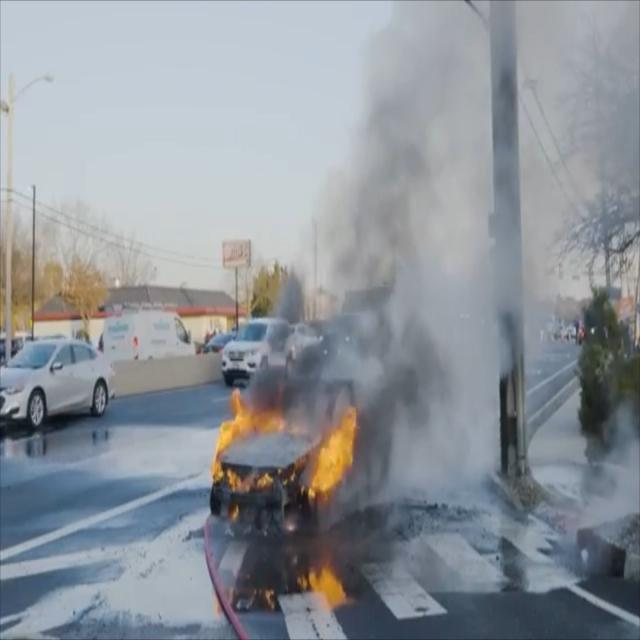fire: (208, 380, 354, 520), (225, 561, 347, 610)
